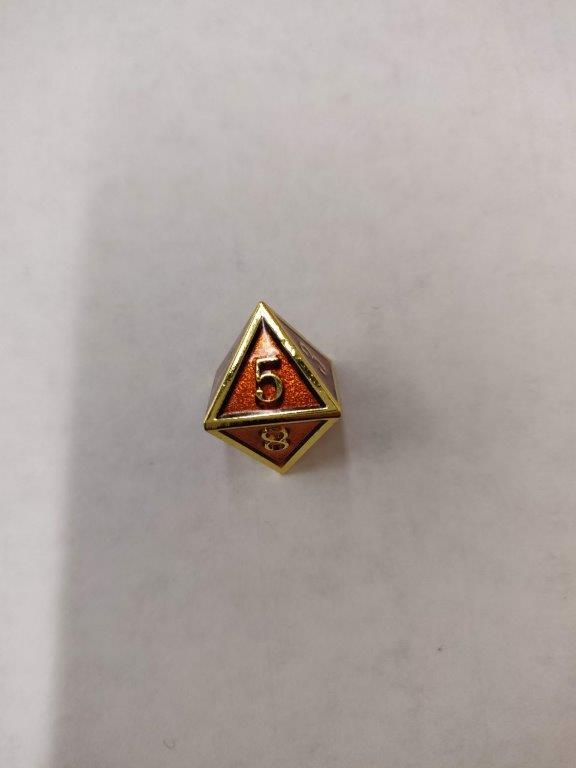d8-5: (201, 301, 344, 478)
